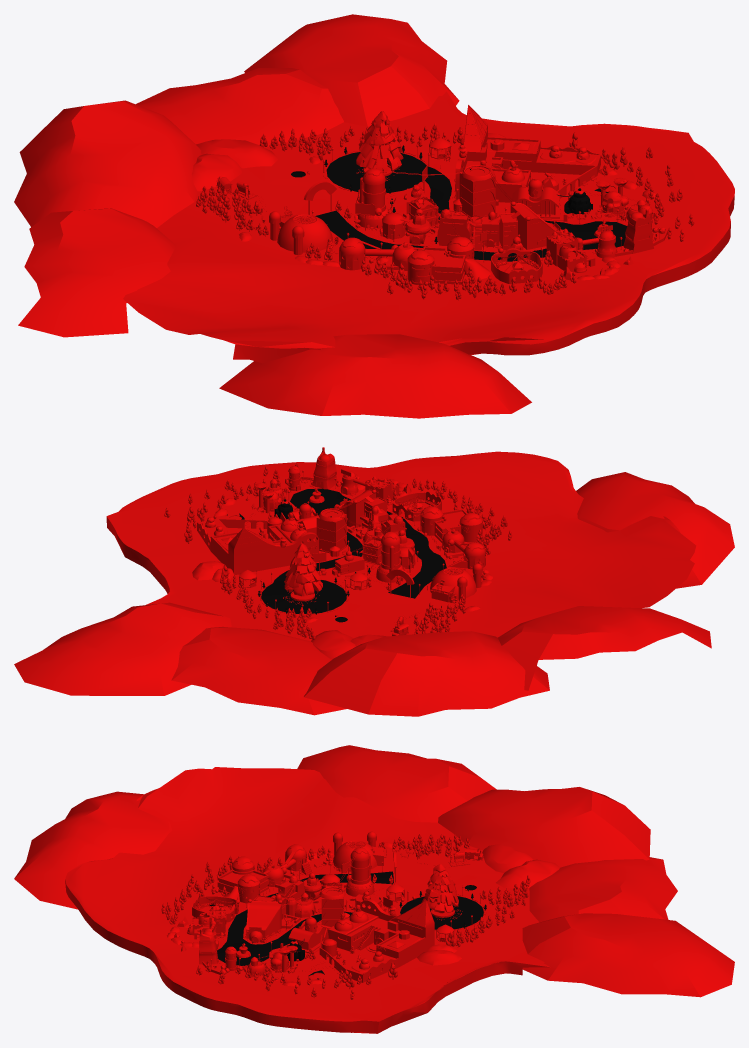
The model's file is Individual_PenguPlaza_03.glb.
3 renders of one model, top to bottom at view 1: azimuth 30°, elevation 25°; view 2: azimuth 150°, elevation 25°; view 3: azimuth 270°, elevation 25°, orthographic. The views are drawn at different scales.
Parts seen in each view (by area): view 1: polySurface262, pasted__SnowPatch17, pasted__SnowPatch23, pasted__SnowPatch22, pasted__SnowPatch25, pasted__SnowPatch24, pasted__pasted__polySurface204, polySurface260, polySurface194, Tree_54, pCylinder31, pasted__pasted__SnowPatch18 (+10 smaller); view 2: polySurface262, pasted__SnowPatch23, pasted__SnowPatch25, pasted__SnowPatch24, pasted__SnowPatch22, pasted__SnowPatch17, pasted__pasted__polySurface204, polySurface194, polySurface260, Tree_54, pCylinder31, pCube113 (+9 smaller); view 3: polySurface262, pasted__SnowPatch25, pasted__SnowPatch23, pasted__SnowPatch22, pasted__SnowPatch17, pasted__SnowPatch24, pasted__pasted__polySurface204, pasted__typeMesh2, polySurface260, Tree_54, pasted__pasted__SnowPatch18, polySurface194 (+11 smaller).
Part boxes in pixels (bbox=[...]): polySurface262: bbox=[123, 91, 734, 363]; pasted__SnowPatch17: bbox=[219, 334, 531, 418]; pasted__SnowPatch23: bbox=[14, 100, 201, 227]; pasted__SnowPatch22: bbox=[18, 208, 176, 337]; pasted__SnowPatch25: bbox=[244, 14, 459, 126]; pasted__SnowPatch24: bbox=[136, 68, 343, 147]; pasted__pasted__polySurface204: bbox=[455, 105, 600, 202]; polySurface260: bbox=[407, 242, 474, 285]; polySurface194: bbox=[269, 211, 332, 254]; Tree_54: bbox=[356, 111, 403, 172]; pCylinder31: bbox=[453, 165, 495, 217]; pasted__pasted__SnowPatch18: bbox=[196, 139, 277, 168]; polySurface262: bbox=[106, 451, 696, 641]; pasted__SnowPatch23: bbox=[304, 631, 549, 716]; pasted__SnowPatch25: bbox=[14, 602, 231, 695]; pasted__SnowPatch24: bbox=[171, 626, 346, 715]; pasted__SnowPatch22: bbox=[498, 606, 711, 690]; pasted__SnowPatch17: bbox=[576, 472, 734, 588]; pasted__pasted__polySurface204: bbox=[197, 512, 318, 574]; polySurface194: bbox=[430, 563, 482, 602]; polySurface260: bbox=[420, 509, 482, 542]; Tree_54: bbox=[284, 544, 322, 596]; pCylinder31: bbox=[316, 508, 346, 556]; pCube113: bbox=[442, 528, 485, 569]; polySurface262: bbox=[65, 767, 550, 1033]; pasted__SnowPatch25: bbox=[522, 913, 734, 997]; pasted__SnowPatch23: bbox=[438, 787, 650, 867]; pasted__SnowPatch22: bbox=[297, 745, 496, 822]; pasted__SnowPatch17: bbox=[14, 791, 172, 909]; pasted__SnowPatch24: bbox=[529, 857, 677, 922]; pasted__pasted__polySurface204: bbox=[319, 899, 434, 982]; pasted__typeMesh2: bbox=[246, 895, 325, 942]; polySurface260: bbox=[217, 861, 268, 903]; Tree_54: bbox=[421, 864, 458, 913]; pasted__pasted__SnowPatch18: bbox=[496, 859, 560, 888]; polySurface194: bbox=[333, 831, 386, 871].
Size of the model in its own units: 190 by 28.36 by 207.
